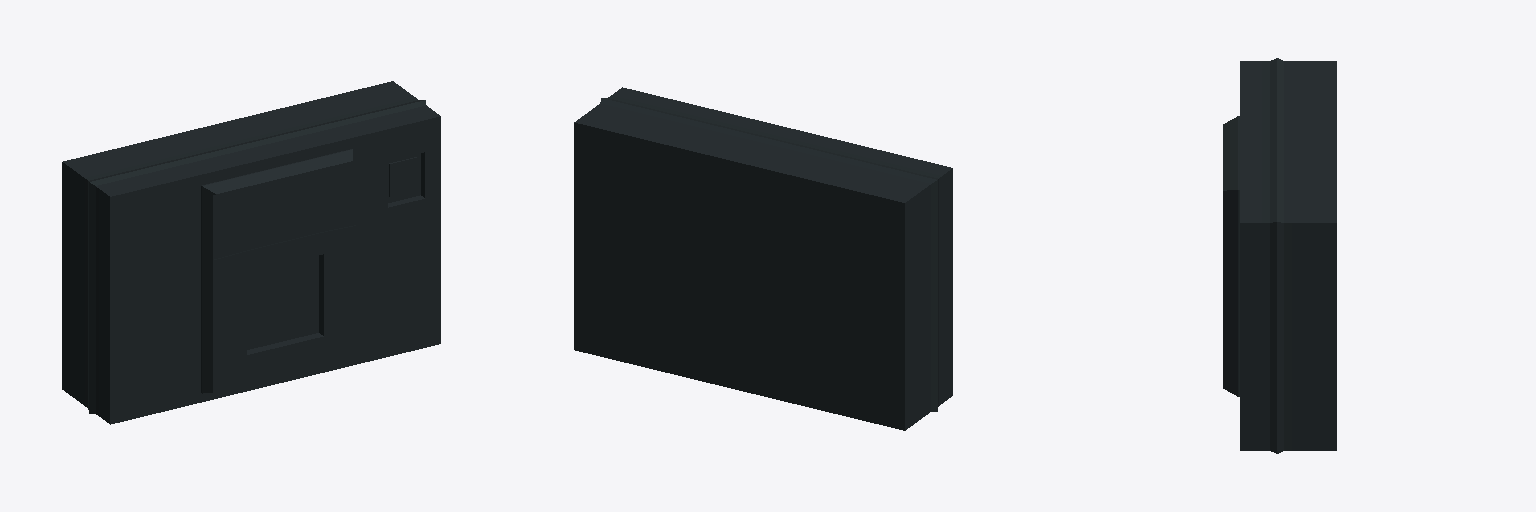
File: majesticCamera.obj
The picture shows the model from 3 angles: view 1: azimuth 30°, elevation 25°; view 2: azimuth 150°, elevation 25°; view 3: azimuth 270°, elevation 25°; orthographic projection.
Parts seen in each view (by area): view 1: majesticCamera_CAMERA_MODEL; view 2: majesticCamera_CAMERA_MODEL; view 3: majesticCamera_CAMERA_MODEL.
Part boxes in pixels (x1,y1,x2,y2): majesticCamera_CAMERA_MODEL: (62, 81, 440, 424); majesticCamera_CAMERA_MODEL: (574, 87, 952, 430); majesticCamera_CAMERA_MODEL: (1223, 58, 1336, 453).
Size of the model in its own units: 0.3978 by 0.2617 by 0.1159.